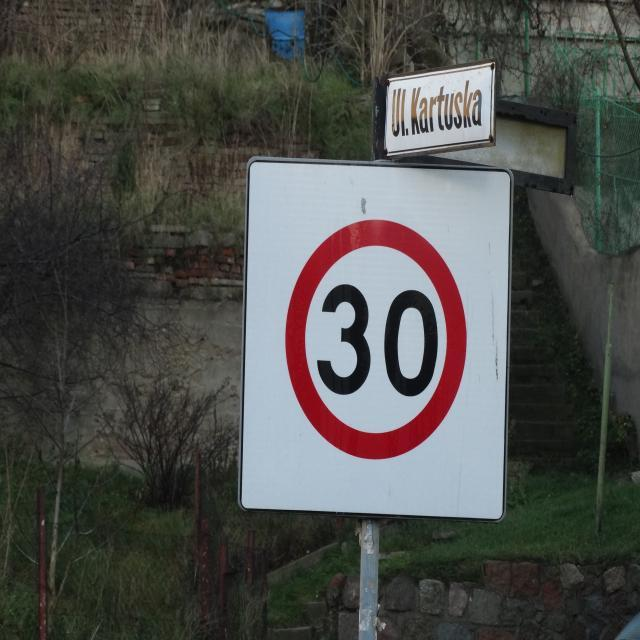speed limit 30: (281, 219, 468, 460)
